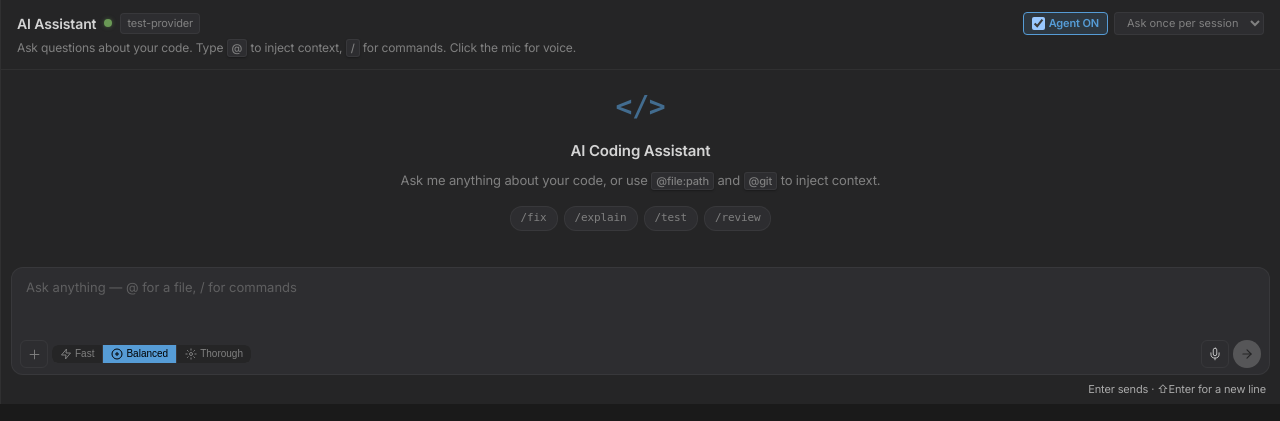
Test: AIChat circuit-breaker notices › keeps the run going when the harness recovers
Type "build the thing" into the text box with placeholder "Ask anything — @ for a file, / for commands" at (640, 302), box 12,268 -> 1269,336
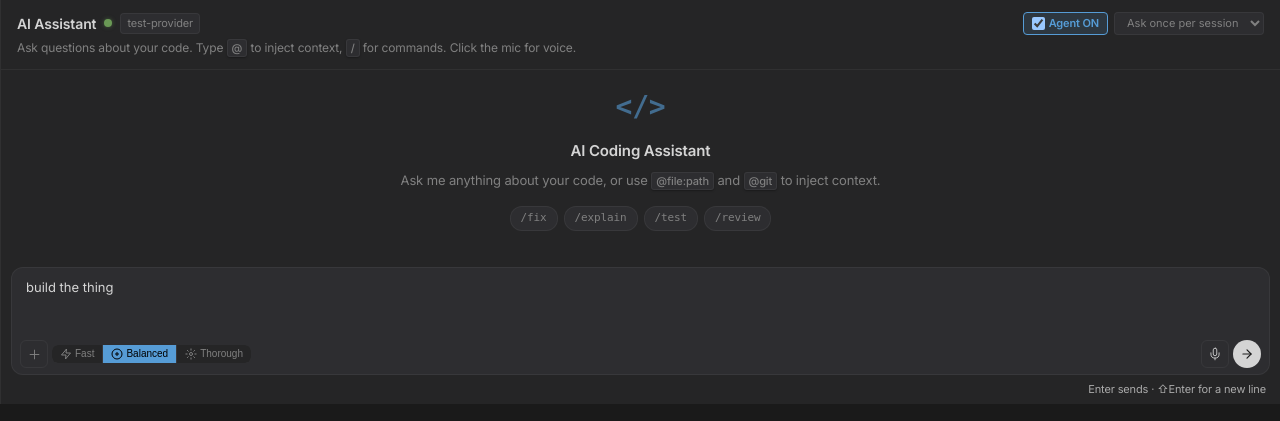
Press Enter in the text box with placeholder "Ask anything — @ for a file, / for commands", box 12,268 -> 1269,336
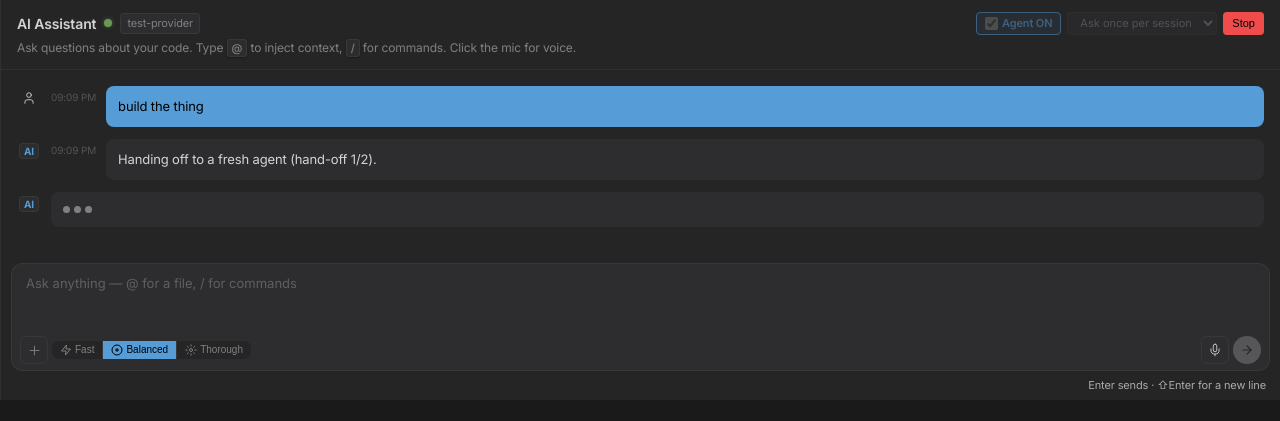
Expected: the text "Handing off to a fresh agent (hand-off 1/2)." is shown, 118,151 -> 377,167
